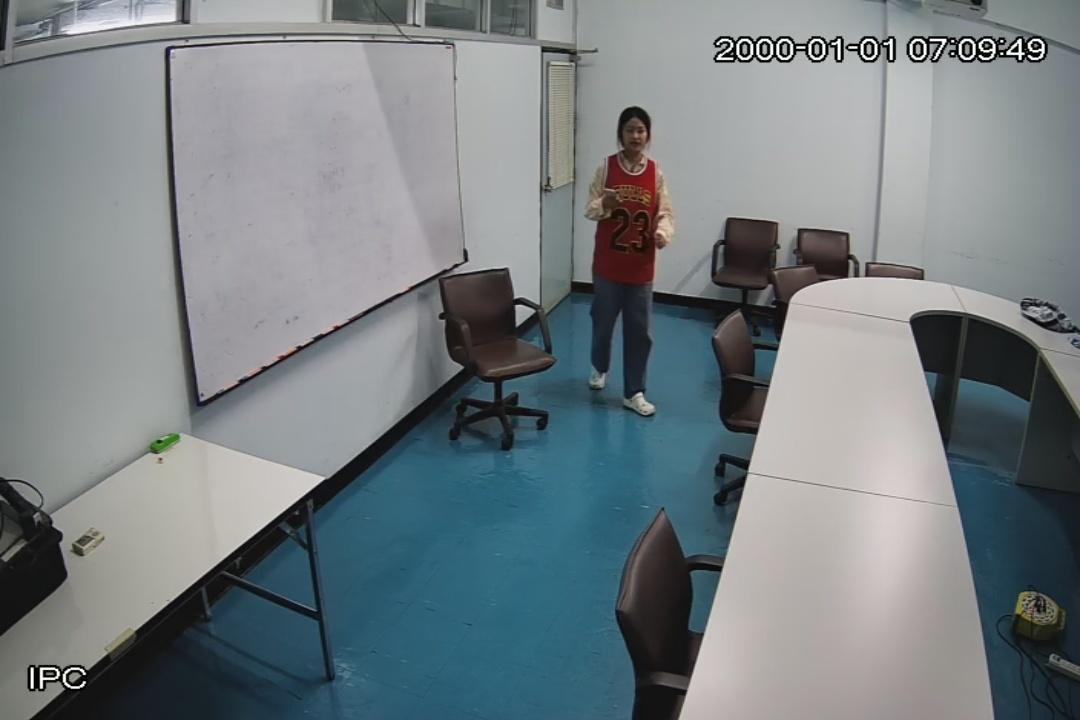normal: (576, 105, 673, 410)
